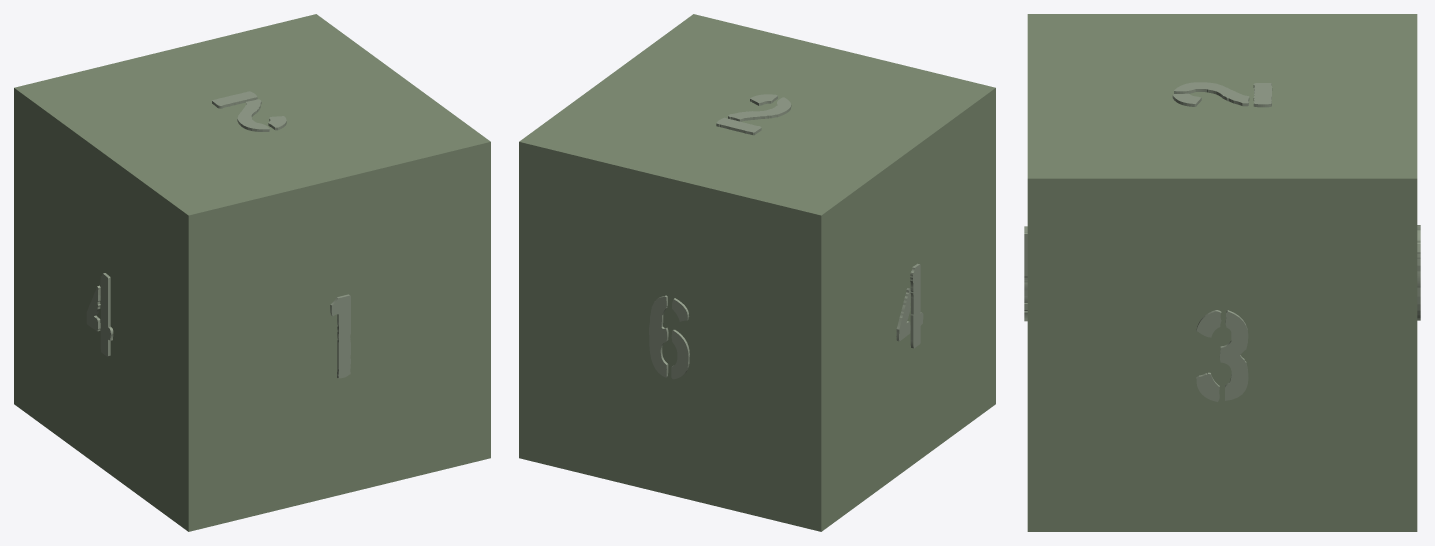
The picture shows the model from 3 angles, left to right: view 1: azimuth 30°, elevation 25°; view 2: azimuth 150°, elevation 25°; view 3: azimuth 270°, elevation 25°; orthographic projection. The views are drawn at different scales.
Parts seen in each view (by area): view 1: d6, dFace_4_idx_1, dFace_2_idx_2, dFace_1_idx_4; view 2: d6, dFace_6_idx_5, dFace_4_idx_1, dFace_2_idx_2; view 3: d6, dFace_3_idx_0, dFace_2_idx_2.
Part boxes in pixels (x1,y1,x2,y2): d6: (14, 14, 490, 531); dFace_4_idx_1: (86, 273, 113, 356); dFace_2_idx_2: (212, 91, 286, 131); dFace_1_idx_4: (330, 294, 350, 378); d6: (519, 14, 995, 531); dFace_6_idx_5: (649, 295, 689, 379); dFace_4_idx_1: (896, 263, 923, 348); dFace_2_idx_2: (716, 94, 791, 135); d6: (1027, 14, 1417, 531); dFace_3_idx_0: (1196, 310, 1248, 401); dFace_2_idx_2: (1172, 82, 1272, 107).
Size of the model in its own units: 1.17 by 1.17 by 1.17.
